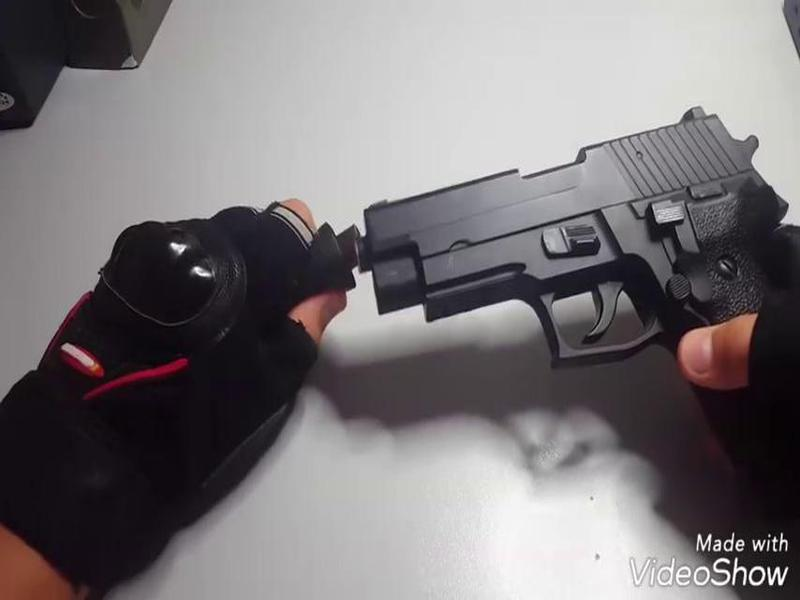Pistola: (365, 93, 800, 374)
